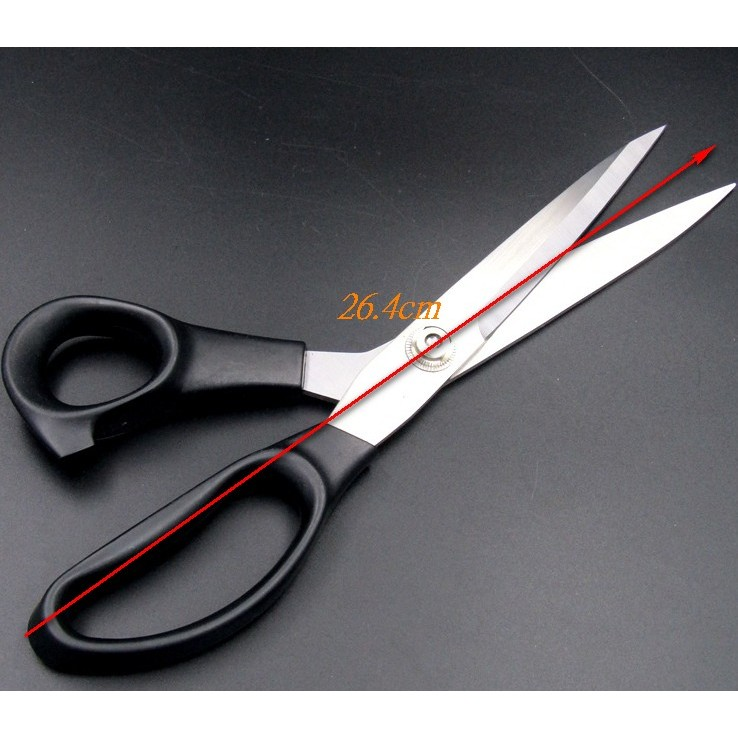scissors: (1, 119, 738, 683)
